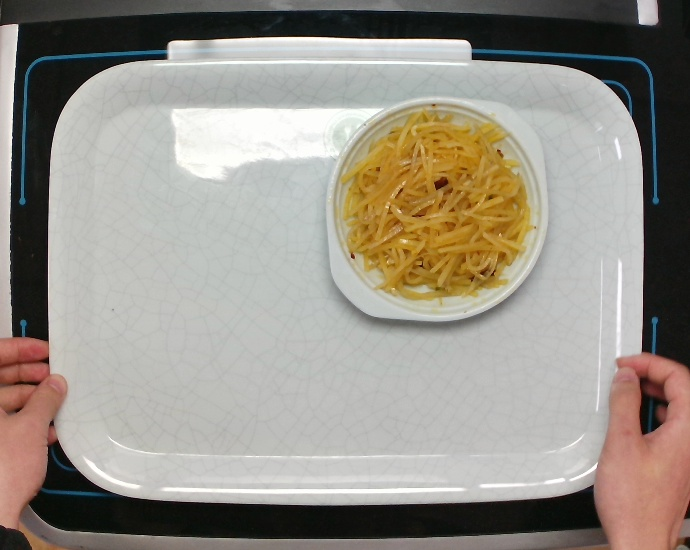JYsf-Shuang_Er_Pan: (324, 99, 553, 327)
